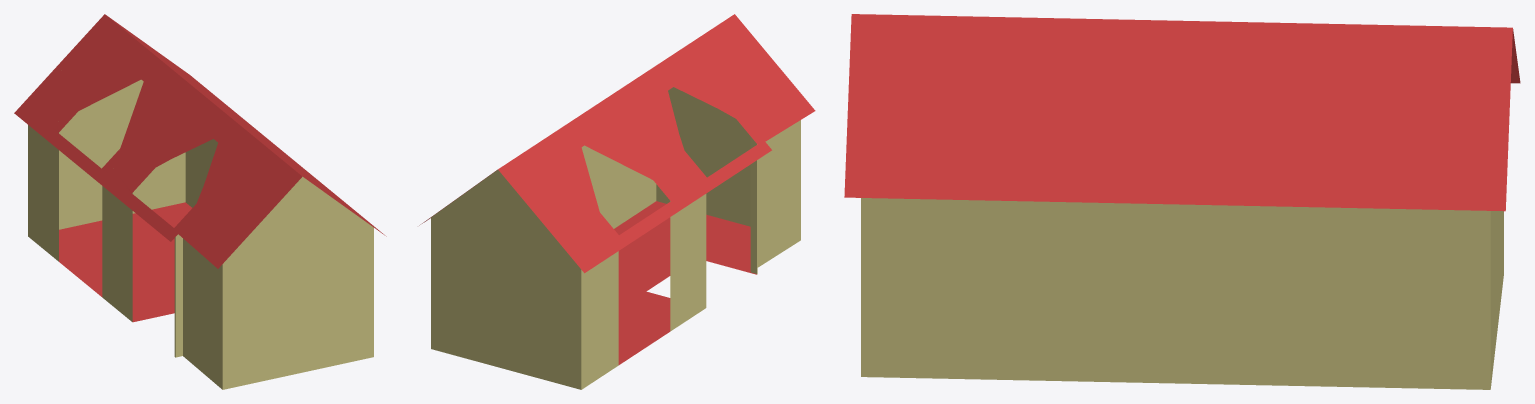
3 views of the same model, side by side, from view 1: azimuth 30°, elevation 25°; view 2: azimuth 150°, elevation 25°; view 3: azimuth 270°, elevation 25° (orthographic). The views are drawn at different scales.
Size of the model in its own units: 15.44 by 31.83 by 15.98.
